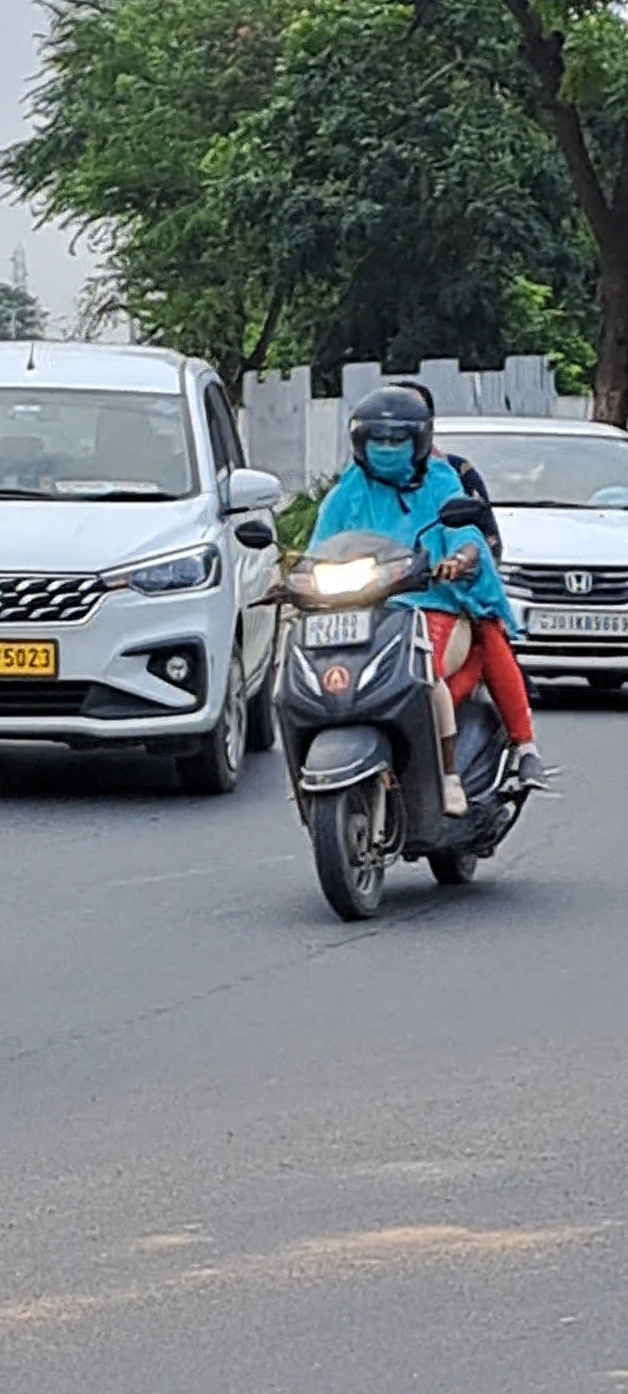BikeWithRider: (255, 366, 574, 931)
Helmet: (334, 371, 447, 492)
